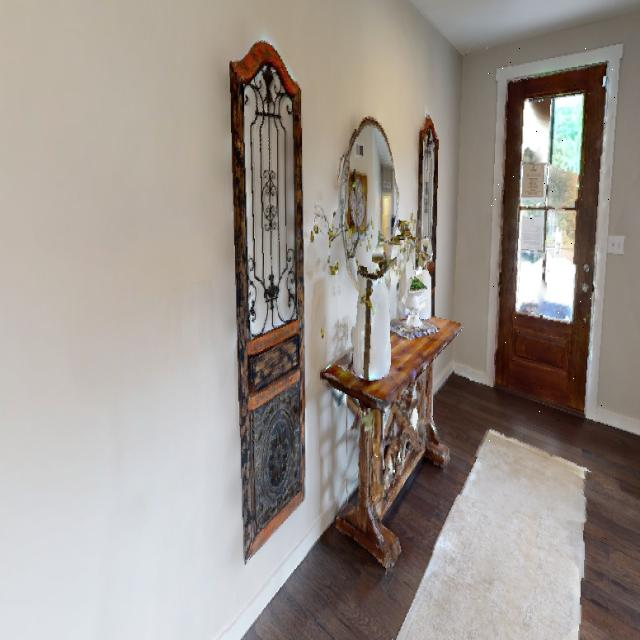door: (488, 49, 616, 442)
table: (308, 276, 470, 598)
